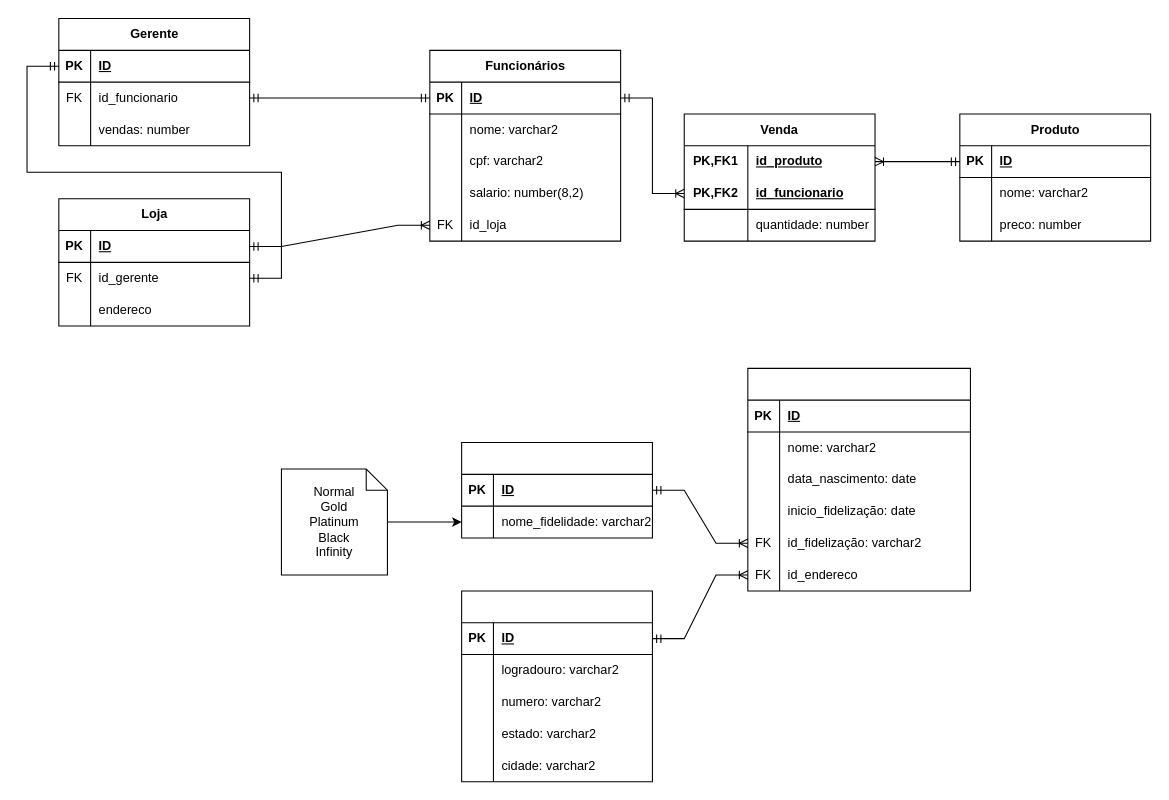
This 1169x800 diagram has some shape labels left out. The shapes that lost their labels are listed below. From the top down, each one's box as (x1, y1, x2, y2) in pixels, then its label:
(461, 441, 652, 538): Bonus Fidelização
(747, 367, 970, 591): Clientes Fidelizados
(461, 590, 652, 782): Endereço Cliente
